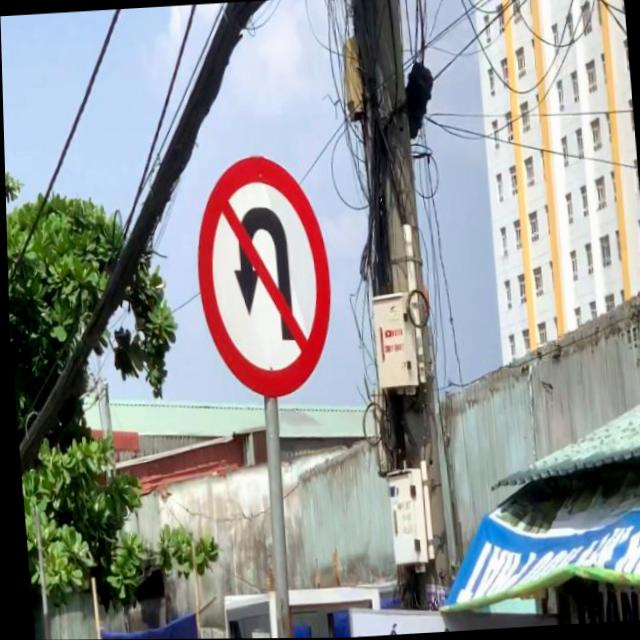Cam quay dau xe: (186, 151, 338, 402)
